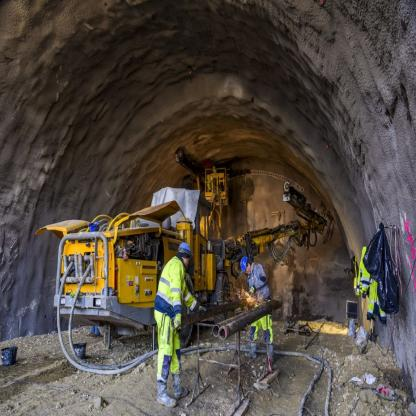person: (150, 233, 199, 405), (238, 247, 275, 373)
